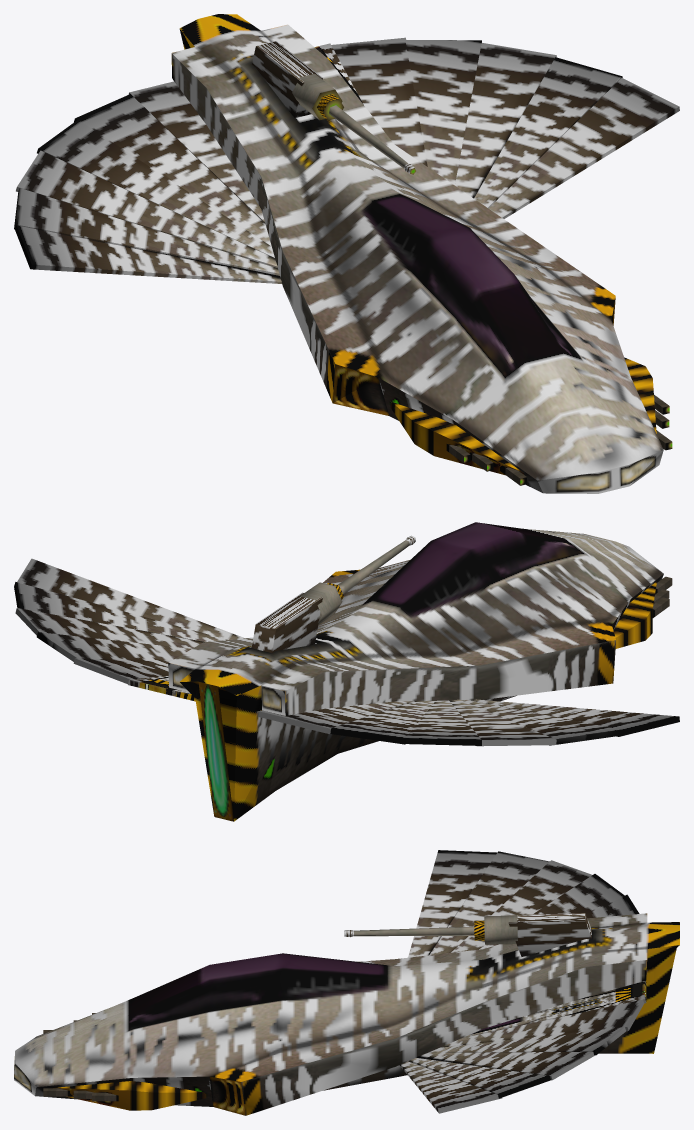
File: fig11ops1_static.obj
The picture shows the model from 3 angles, top to bottom: view 1: azimuth 30°, elevation 25°; view 2: azimuth 150°, elevation 25°; view 3: azimuth 270°, elevation 25°; orthographic projection. The views are drawn at different scales.
Parts seen in each view (by area): view 1: frm-fuselg, frm-lslrsal6, frm-lslrsal4, frm-lslrsal5, frm-lslrsal3, frm-rslrsal2, frm-rslrsal4, frm-rslrsal3, frm-rslrsal6, frm-lslrsal2, frm-rslrsal5, frm-rslrsal1 (+5 smaller); view 2: frm-fuselg, frm-lslrsal6, frm-lslrsal5, frm-wepmnt, frm-lslrsal4, frm-lslrsal3, frm-rslrsal6, frm-rslrsal5, frm-rslrsal2, frm-rslrsal4, frm-rslrsal3, frm-rslrsal1 (+5 smaller); view 3: frm-fuselg, frm-rslrsal6, frm-rslrsal5, frm-lslrsal2, frm-rslrsal4, frm-lslrsal4, frm-lslrsal3, frm-wepmnt, frm-lwepbar, frm-lslrsal5, frm-lslrsal6, frm-lslrsal1 (+4 smaller).
Boxes of the visible parts, x1=… form: frm-fuselg: x1=171, y1=14, x2=663, y2=493; frm-lslrsal6: x1=489, y1=78, x2=679, y2=218; frm-lslrsal4: x1=455, y1=43, x2=556, y2=198; frm-lslrsal5: x1=474, y1=57, x2=622, y2=208; frm-lslrsal3: x1=405, y1=40, x2=481, y2=185; frm-rslrsal2: x1=74, y1=94, x2=271, y2=246; frm-rslrsal4: x1=16, y1=150, x2=277, y2=267; frm-rslrsal3: x1=37, y1=120, x2=274, y2=257; frm-rslrsal6: x1=15, y1=225, x2=281, y2=283; frm-lslrsal2: x1=331, y1=37, x2=427, y2=166; frm-rslrsal5: x1=14, y1=188, x2=279, y2=275; frm-rslrsal1: x1=128, y1=81, x2=265, y2=223; frm-fuselg: x1=168, y1=522, x2=663, y2=821; frm-lslrsal6: x1=17, y1=558, x2=244, y2=639; frm-lslrsal5: x1=14, y1=582, x2=227, y2=641; frm-wepmnt: x1=251, y1=592, x2=322, y2=652; frm-lslrsal4: x1=15, y1=608, x2=204, y2=648; frm-lslrsal3: x1=36, y1=632, x2=191, y2=661; frm-rslrsal6: x1=471, y1=699, x2=679, y2=736; frm-rslrsal5: x1=462, y1=700, x2=622, y2=745; frm-rslrsal2: x1=330, y1=701, x2=434, y2=744; frm-rslrsal4: x1=449, y1=699, x2=556, y2=746; frm-rslrsal3: x1=405, y1=700, x2=481, y2=745; frm-rslrsal1: x1=258, y1=701, x2=413, y2=733; frm-fuselg: x1=14, y1=913, x2=679, y2=1115; frm-rslrsal6: x1=408, y1=850, x2=496, y2=957; frm-rslrsal5: x1=429, y1=851, x2=549, y2=955; frm-lslrsal2: x1=440, y1=999, x2=644, y2=1047; frm-rslrsal4: x1=451, y1=860, x2=592, y2=952; frm-lslrsal4: x1=416, y1=1051, x2=594, y2=1080; frm-lslrsal3: x1=428, y1=1027, x2=625, y2=1055; frm-wepmnt: x1=508, y1=913, x2=591, y2=956; frm-lwepbar: x1=53, y1=1081, x2=206, y2=1110; frm-lslrsal5: x1=408, y1=1058, x2=550, y2=1098; frm-lslrsal6: x1=399, y1=1061, x2=502, y2=1113; frm-lslrsal1: x1=463, y1=981, x2=646, y2=1037.
Bounding box in the file's own units: 4.31 × 1.25 × 4.67.
